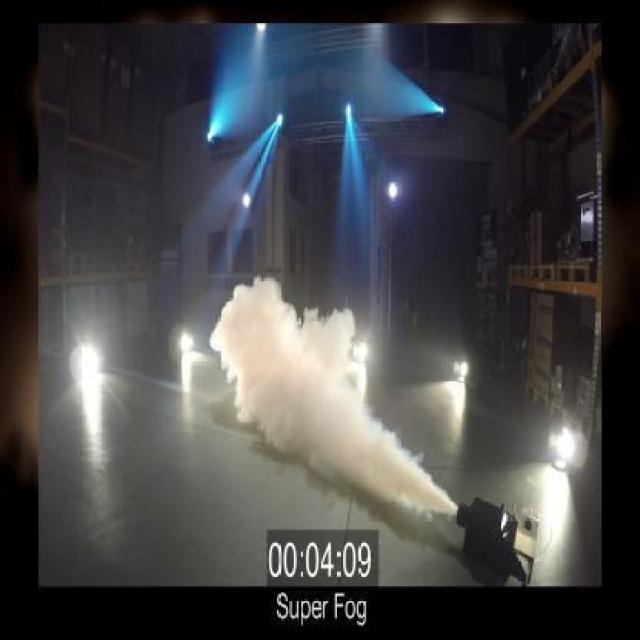fire: (208, 272, 446, 516)
